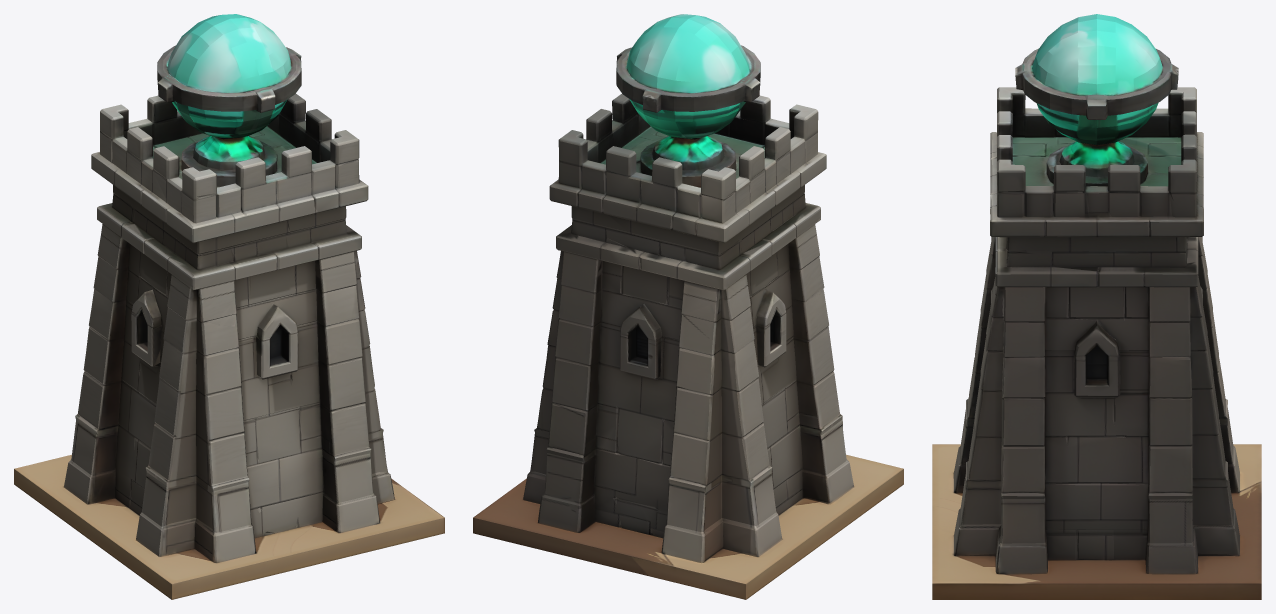
File: base_basic_pbr.fbx
3 renders of one model, left to right at view 1: azimuth 30°, elevation 25°; view 2: azimuth 150°, elevation 25°; view 3: azimuth 270°, elevation 25°, orthographic. The views are drawn at different scales.
Parts seen in each view (by area): view 1: model; view 2: model; view 3: model.
Boxes of the visible parts, <box> form: model: <box>14,14,444,599</box>; model: <box>473,14,903,599</box>; model: <box>932,14,1261,599</box>.
Bounding box in the file's own units: 17.5 × 30 × 17.52.
Materials: 1 (1 with a texture image).
